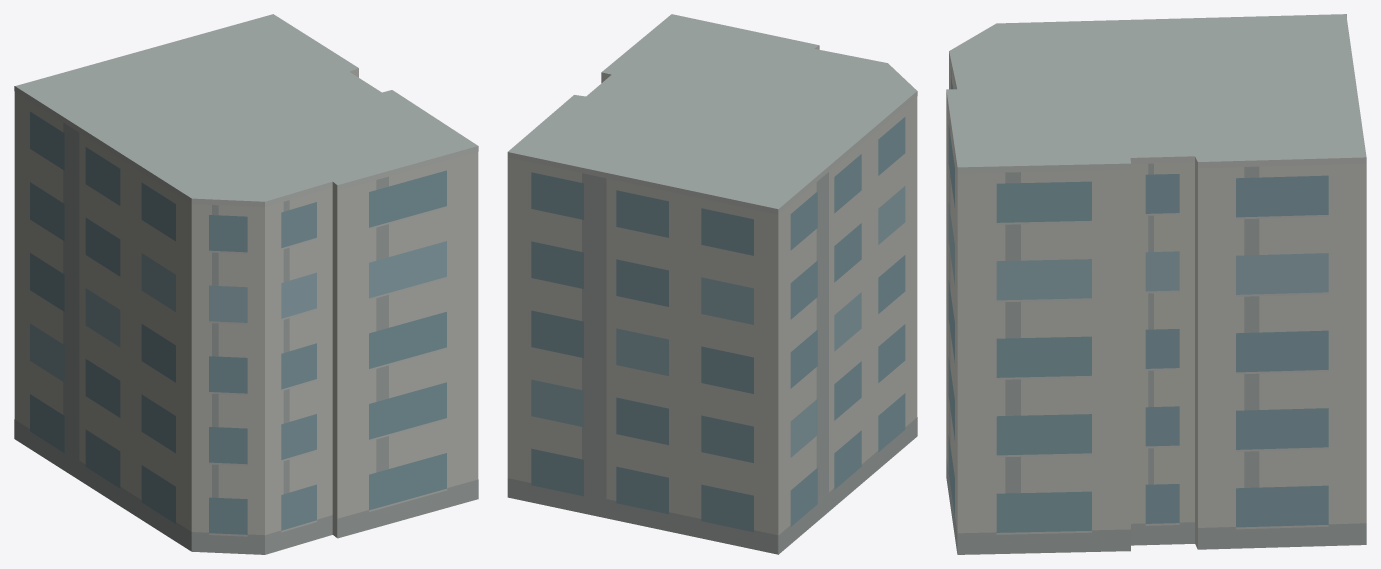
The model's file is survey-upis-32622805.glb.
The picture shows the model from 3 angles, left to right: view 1: azimuth 30°, elevation 25°; view 2: azimuth 150°, elevation 25°; view 3: azimuth 270°, elevation 25°; orthographic projection. The views are drawn at different scales.
Parts seen in each view (by area): view 1: survey-upis-32622805.tmp; view 2: survey-upis-32622805.tmp; view 3: survey-upis-32622805.tmp.
Boxes of the visible parts, <box> form: survey-upis-32622805.tmp: <box>14,14,478,554</box>; survey-upis-32622805.tmp: <box>507,14,917,554</box>; survey-upis-32622805.tmp: <box>946,14,1366,554</box>.
Size of the model in its own units: 13.04 by 15.35 by 15.1.
